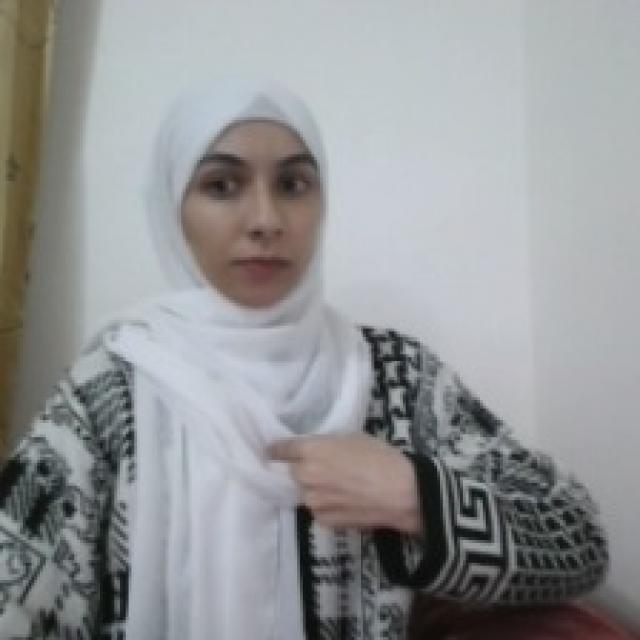me: (255, 420, 420, 542)
